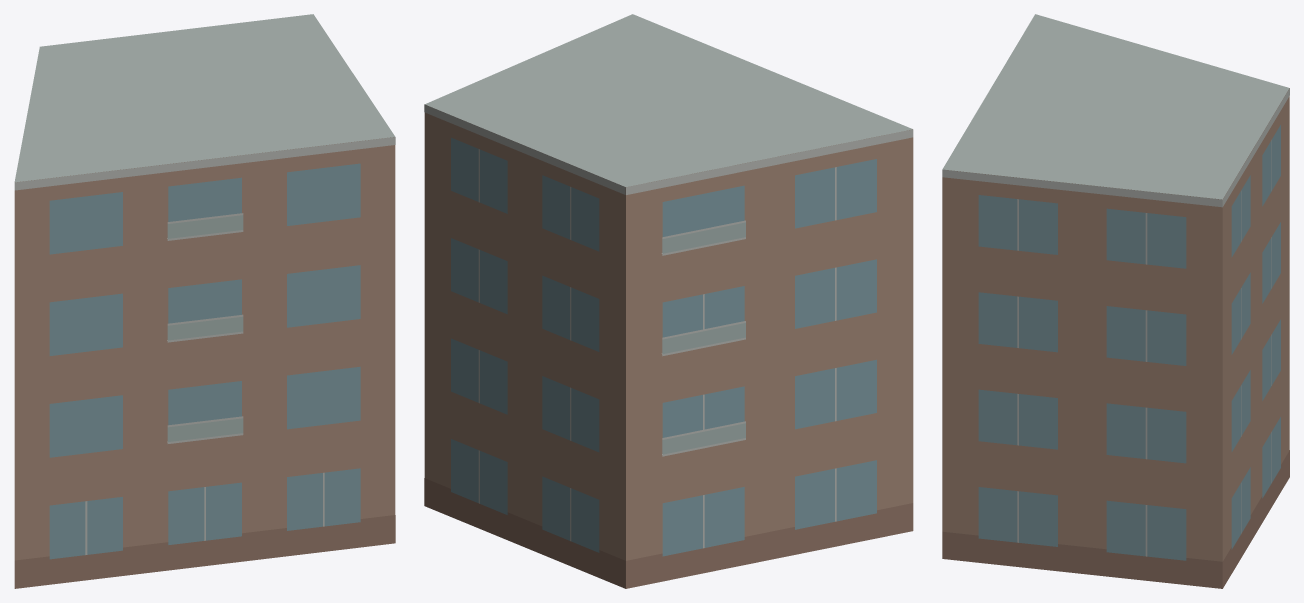
Rendered from residential-c413d231-1c44-4407-b988-404c7c21c79b.glb.
3 views of the same model, side by side, from view 1: azimuth 30°, elevation 25°; view 2: azimuth 150°, elevation 25°; view 3: azimuth 270°, elevation 25° (orthographic). The views are drawn at different scales.
Visible parts, largest first — view 1: residential-c413d231-1c44-4407-b988-404c7c21c79b.tmp; view 2: residential-c413d231-1c44-4407-b988-404c7c21c79b.tmp; view 3: residential-c413d231-1c44-4407-b988-404c7c21c79b.tmp.
Boxes of the visible parts, x1,y1,x2,y2 form: residential-c413d231-1c44-4407-b988-404c7c21c79b.tmp: (14,14,395,588); residential-c413d231-1c44-4407-b988-404c7c21c79b.tmp: (424,14,913,588); residential-c413d231-1c44-4407-b988-404c7c21c79b.tmp: (942,14,1289,588).
Size of the model in its own units: 12.47 by 12.2 by 9.87.
